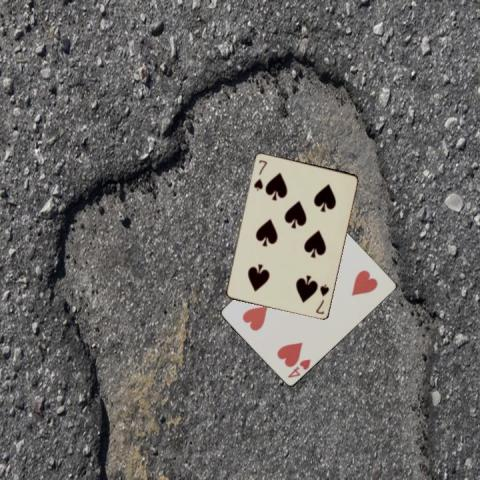4h: (285, 356, 312, 380)
7s: (312, 282, 330, 316), (251, 157, 268, 192)
